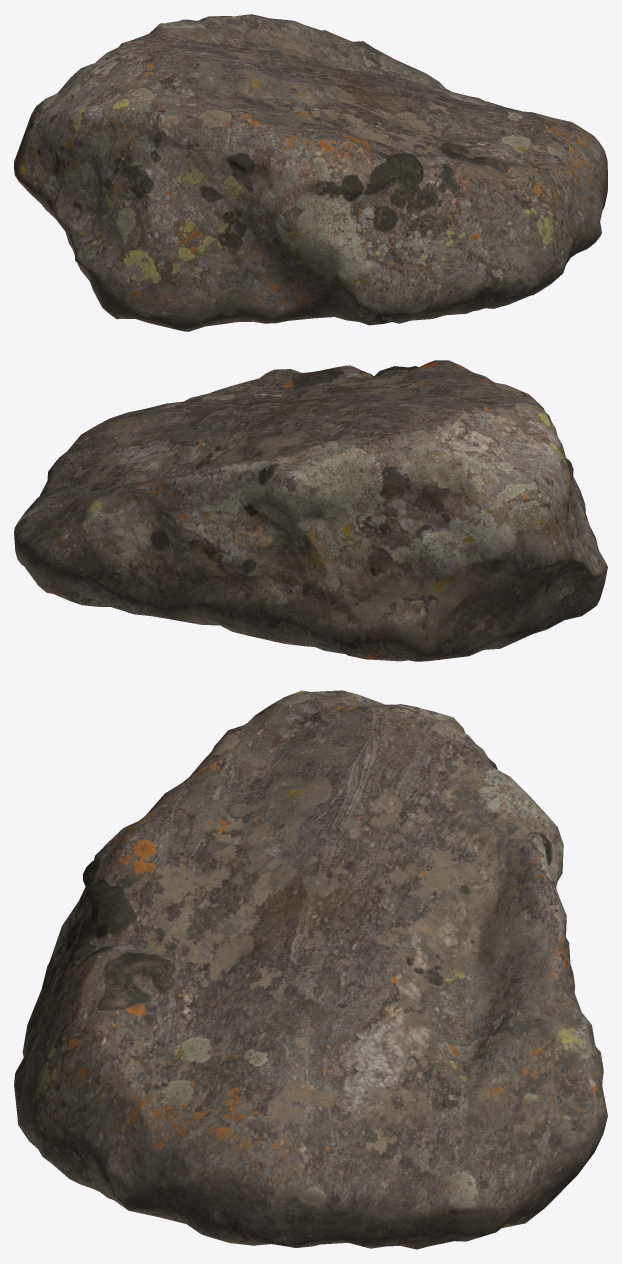
File: SM_whehfdv_tier_2.gltf
3 views of the same model, one above another, from view 1: azimuth 30°, elevation 25°; view 2: azimuth 150°, elevation 25°; view 3: azimuth 270°, elevation 25° (orthographic). The views are drawn at different scales.
Visible parts, largest first — view 1: whehfdv_LOD2_TIER2_000; view 2: whehfdv_LOD2_TIER2_000; view 3: whehfdv_LOD2_TIER2_000.
Boxes of the visible parts, box(x1,y1,x2,y2) form: whehfdv_LOD2_TIER2_000: box(14, 14, 607, 331); whehfdv_LOD2_TIER2_000: box(14, 360, 607, 661); whehfdv_LOD2_TIER2_000: box(14, 690, 607, 1249).
Bounding box in the file's own units: 0.5982 × 0.2498 × 0.4369.
1 material, 1 textured.
